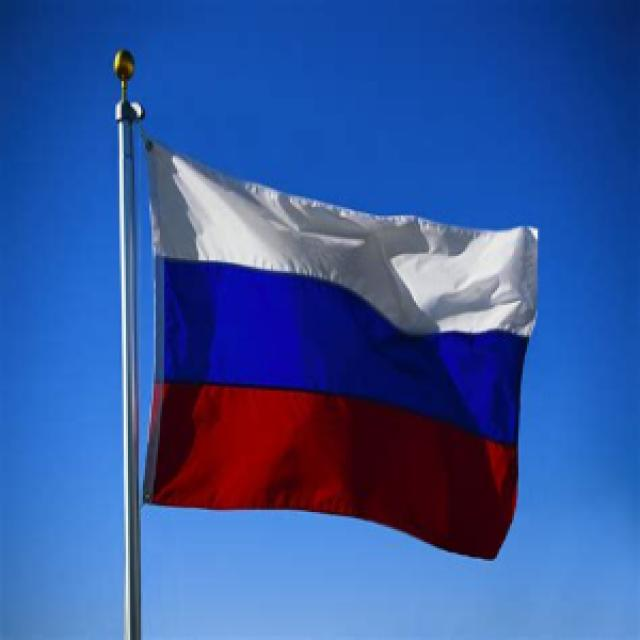russia: (135, 122, 549, 602)
